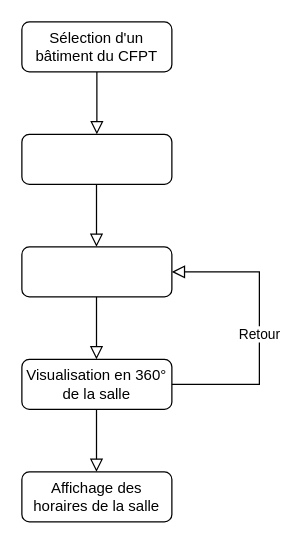
The diagram is 301 pixels wide and 544 high, and some of its shapes have lost their labels. Each missing label, with the box of its shape:
Sélection d'une salle de classe: (21, 246, 172, 297)
Visualisation des étages: (21, 133, 172, 184)
